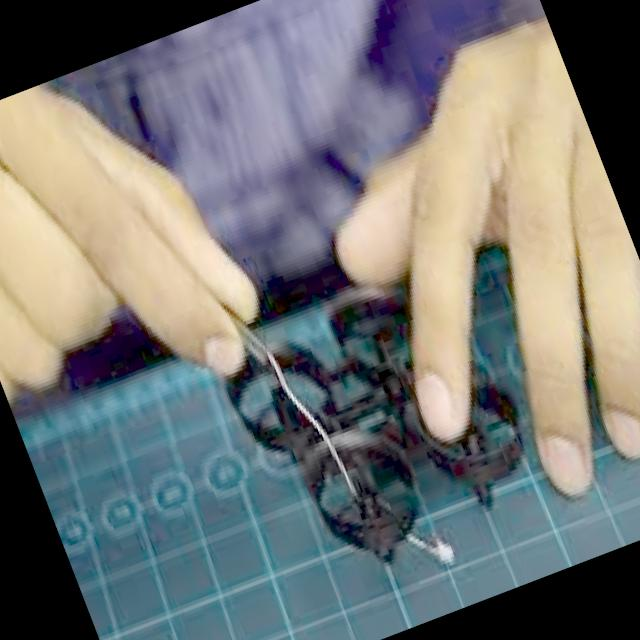drone: (191, 234, 564, 606)
